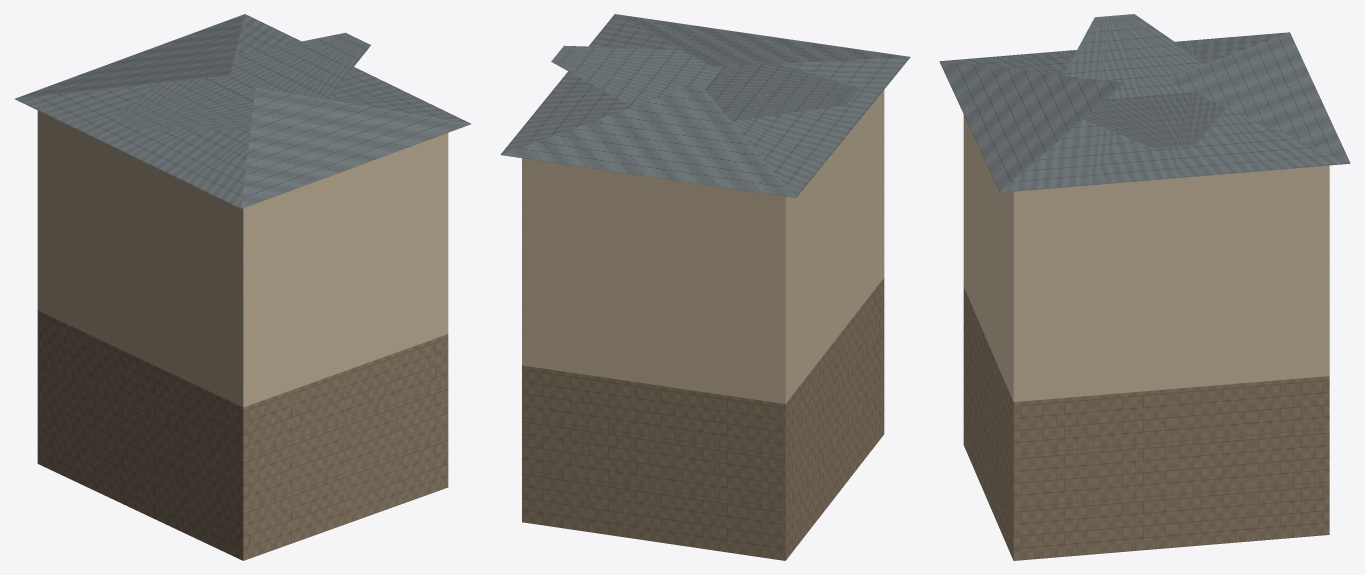
Rendered from bld_c34_46_237.gltf.
3 renders of one model, left to right at view 1: azimuth 30°, elevation 25°; view 2: azimuth 150°, elevation 25°; view 3: azimuth 270°, elevation 25°, orthographic. The views are drawn at different scales.
Visible parts, largest first — view 1: bld_c34_46_237; view 2: bld_c34_46_237; view 3: bld_c34_46_237.
Boxes of the visible parts, x1,y1,x2,y2 form: bld_c34_46_237: [15, 14, 470, 560]; bld_c34_46_237: [500, 14, 910, 560]; bld_c34_46_237: [939, 14, 1350, 560].
Bounding box in the file's own units: 11.04 × 13.1 × 11.97.
Materials: 3 (3 with a texture image).
